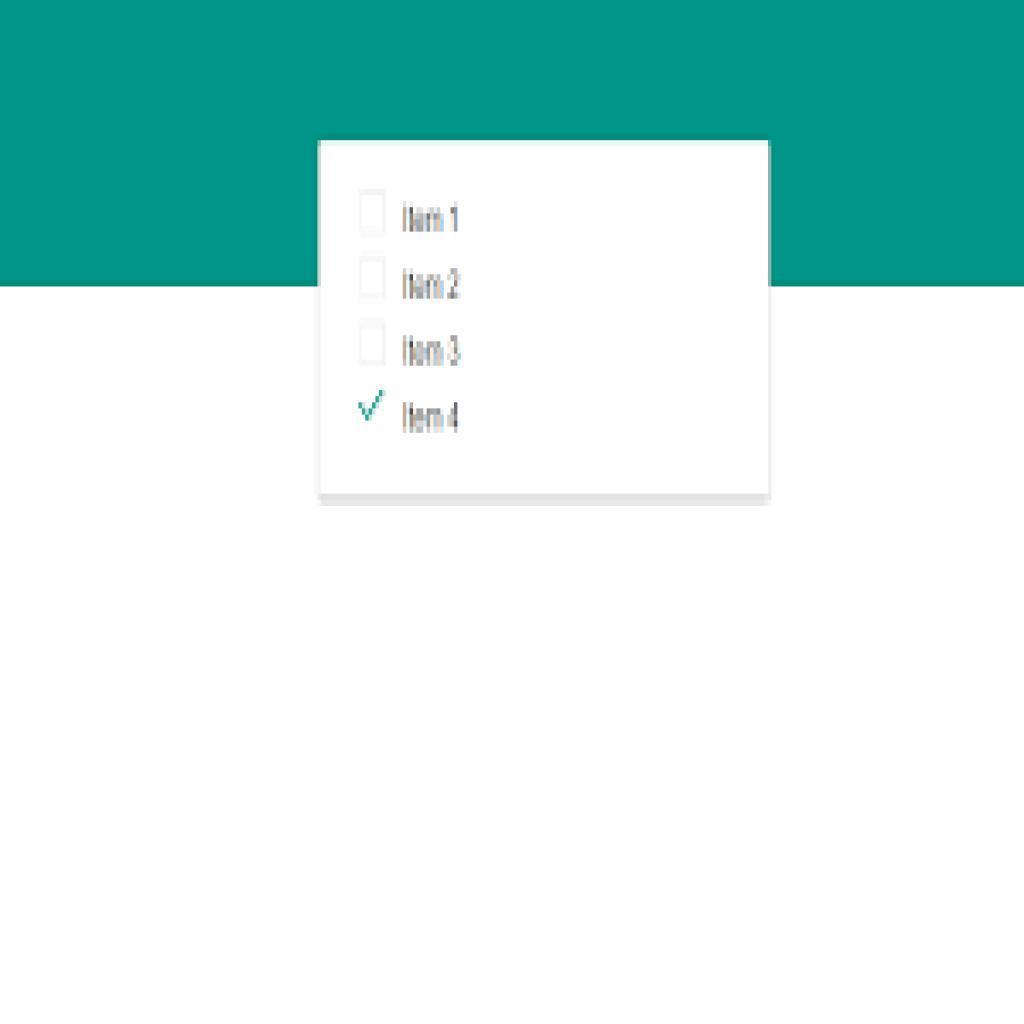checkbox: (350, 376, 392, 446), (350, 250, 397, 301), (352, 188, 397, 241), (351, 312, 394, 364)
